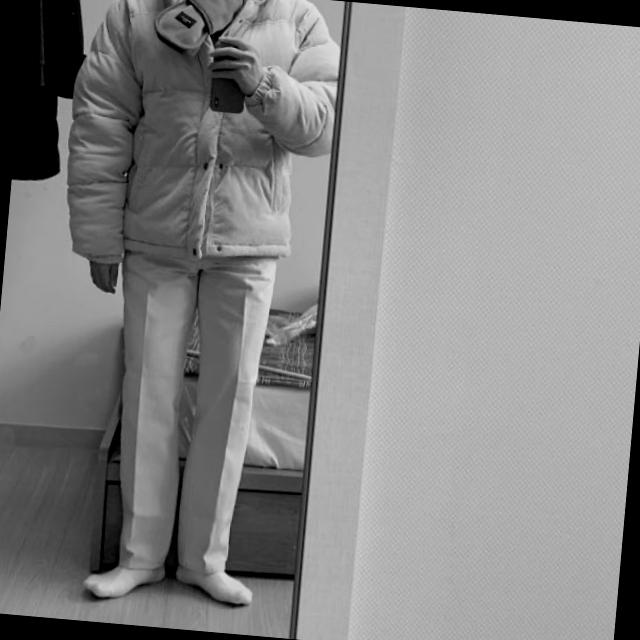padding: (57, 0, 341, 281)
slacks: (95, 238, 276, 580)
